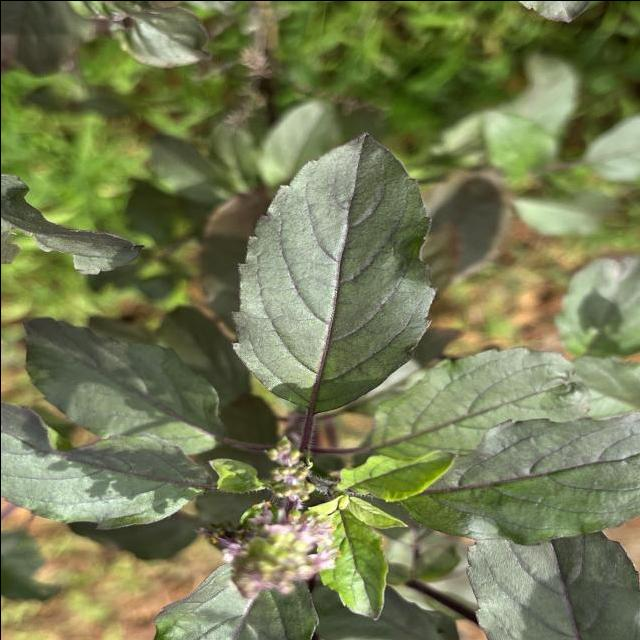Ocimum tenuiflorum: (230, 128, 442, 413)
